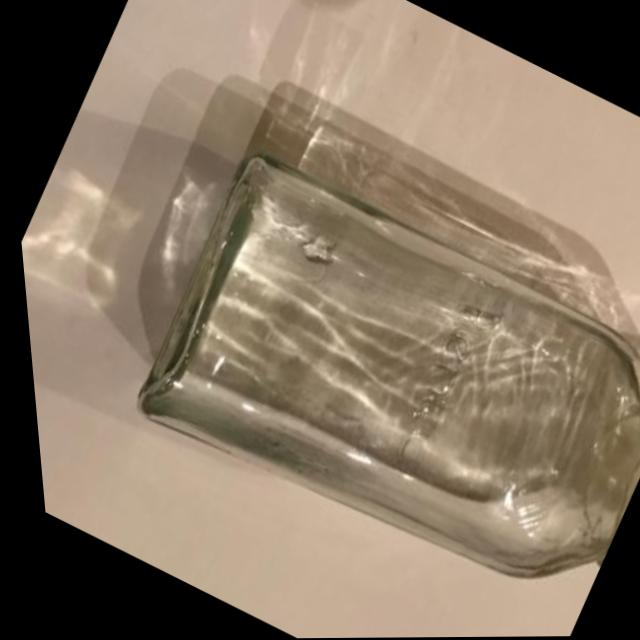glass: (47, 40, 640, 640)
